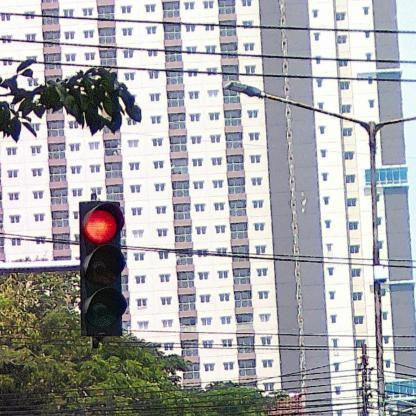red: (79, 202, 125, 336)
